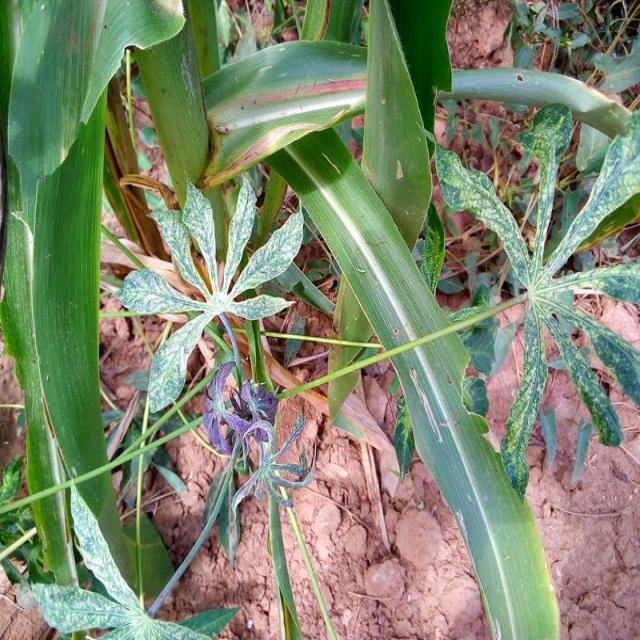cassava leaf: (2, 1, 636, 638), (259, 118, 561, 638)
